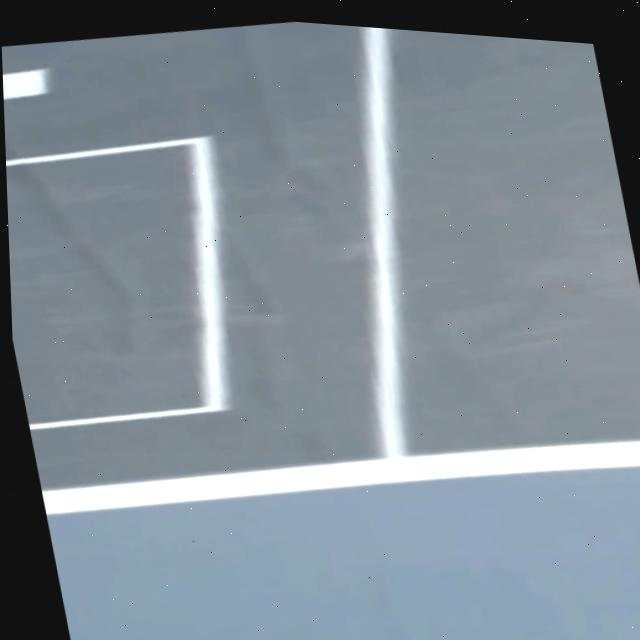center: (3, 71, 47, 100)
left: (41, 441, 640, 515)
